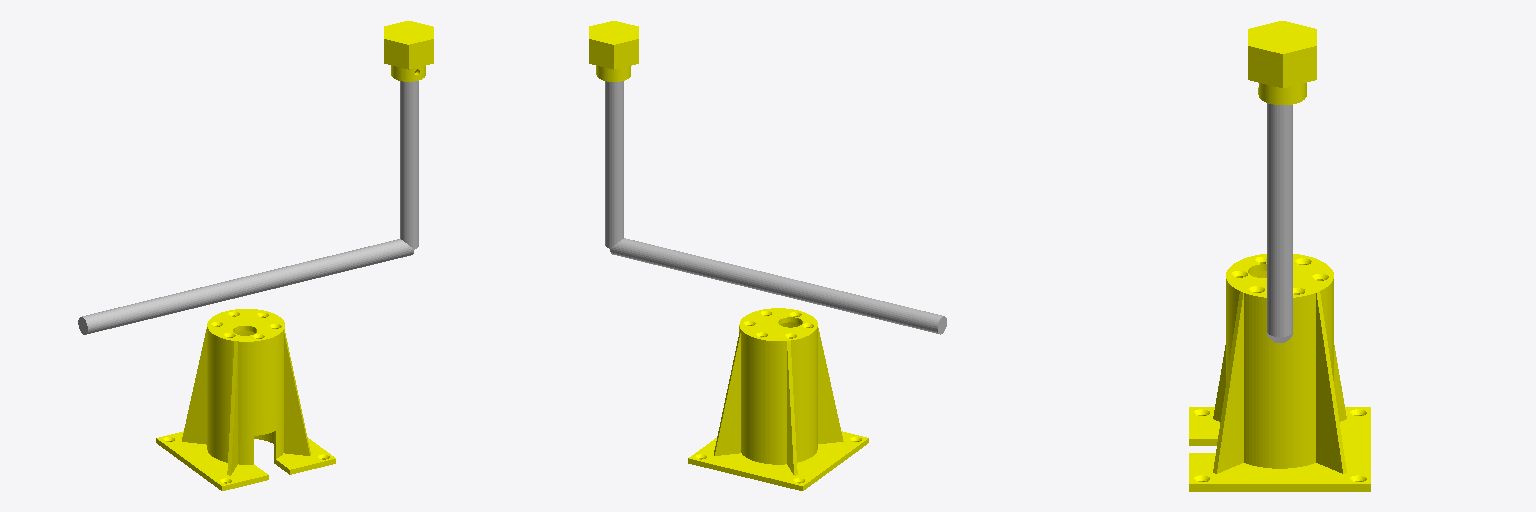
URDF robot description (furuta_pendulum):
<?xml version="1.0"?>
<!-- URDF used for generating xml model -->
<robot name="furuta_pendulum">
  <material name="grey">
    <color rgba="0.8 0.8 0.8 1.0" />
  </material>
  <material name="yellow">
    <color rgba="1.0 1.0 0.0 1.0" />
  </material>

  <link name="base_link">
    <visual>
      <origin rpy="1.57079632679 0.0 0.0" xyz="0.0 0.0 0.0" />
      <geometry>
        <mesh filename="37d_motor_mount.stl" scale="0.001 0.001 0.001"/>
      </geometry>
      <material name="yellow" />
    </visual>
    <collision>
      <origin rpy="0.0 0.0 0.0" xyz="0.0 0.0 0.0895" />
      <geometry>
        <cylinder length="0.179" radius="0.025" />
      </geometry>
    </collision>
    <inertial>
      <mass value="0.0" />
      <origin rpy="0.0 0.0 0.0" xyz="0.0 0.0 0.0" />
      <inertia ixx="0.0" ixy="0.0" ixz="0.0" iyy="0.0" iyz="0.0" izz="0.0" />
    </inertial>
  </link>

  <joint name="joint0" type="revolute">
    <origin rpy="0.0 0.0 0.0" xyz="0.0 0.0 0.095" />
    <parent link="base_link" />
    <child link="arm1" />
    <axis xyz="0 0 1" />
    <dynamics damping="0.0001" />
    <limit effort="1000" lower="-10" upper="10" velocity="1000"/>
  </joint>

  <link name="arm1">
    <visual>
      <origin rpy="0.0 1.5707963267948966 0.0" xyz="0.0 0.0 0.0" />
      <geometry>
        <cylinder length="0.2" radius="0.005" />
      </geometry>
      <material name="grey" />
    </visual>
    <collision>
      <origin rpy="0.0 1.5707963267948966 0.0" xyz="0.0467625 0.0 0.0" />
      <geometry>
        <cylinder length="0.093525" radius="0.005" />
      </geometry>
    </collision>
    <inertial>
      <mass value="0.0" />
      <origin rpy="0.0 0.0 0.0" xyz="0.0 0.0 0.0" />
      <inertia ixx="0.0" ixy="0.0" ixz="0.0" iyy="0.0" iyz="0.0" izz="0.0" />
    </inertial>
  </link>

  <joint name="joint6" type="fixed">
    <origin rpy="0.0 0.0 0.0" xyz="0.0 0.0 -0.015" />
    <parent link="arm1" />
    <child link="arm_mount" />
  </joint>

  <link name="arm_mount">
    <visual>
      <origin rpy="1.5707963267948966 0.0 0.0" xyz="0.0 0.0 0.0" />
      <geometry>
        <mesh filename="37d_arm.stl" scale="0.001 0.001 0.001"/>
      </geometry>
      <material name="yellow" />
    </visual>
    <collision>
      <origin rpy="0.0 1.5707963267948966 0.0" xyz="0.0467625 0.0 0.0" />
      <geometry>
        <cylinder length="0.093525" radius="0.005" />
      </geometry>
    </collision>
    <inertial>
      <mass value="0.0" />
      <origin rpy="0.0 0.0 0.0" xyz="0.0 0.0 0.0" />
      <inertia ixx="0.0" ixy="0.0" ixz="0.0" iyy="0.0" iyz="0.0" izz="0.0" />
    </inertial>
  </link>

  <joint name="joint1" type="revolute">
    <!-- -pi rotation so that for 0 pendulum is downward -->
    <origin rpy="0.0 0.0 0.0" xyz="0.1 0.0 0.0" />
    <parent link="arm1" />
    <child link="arm2" />
    <axis xyz="1 0 0" />
    <dynamics damping="1.7905703040590617e-05" />
    <limit effort="1000" lower="-10" upper="10" velocity="1000"/>
  </joint>

  <link name="arm2">
    <visual>
      <origin rpy="0.0 0.0 0.0" xyz="0.0 0.0 0.05" />
      <geometry>
        <cylinder length="0.1" radius="0.005" />
      </geometry>
      <material name="grey" />
    </visual>
    <collision>
      <origin rpy="0.0 0.0 0.0" xyz="0.0 0.0 0.0645" />
      <geometry>
        <cylinder length="0.129" radius="0.005" />
      </geometry>
    </collision>
    <inertial>
      <mass value="0.0" />
      <origin rpy="0.0 0.0 0.0" xyz="0.0 0.0 0.0" />
      <inertia ixx="0.0" ixy="0.0" ixz="0.0" iyy="0.0" iyz="0.0" izz="0.0" />
    </inertial>
  </link>

  <joint name="joint2" type="fixed">
    <origin rpy="0.0 0.0 0.0" xyz="0.0 0.0 0.1" />
    <parent link="arm2" />
    <child link="mass" />
  </joint>

    <link name="mass">
        <visual>
        <origin rpy="1.57079632679 0.0 0.0" xyz="0.0 -0.04 0.0" />
        <geometry>
            <mesh filename="m14_weight.stl" scale="0.001 0.001 0.001"/>
        </geometry>
        <material name="yellow" />
        </visual>
        <inertial>
            <mass value="0.1" />
            <origin rpy="0.0 0.0 0.0" xyz="0.0 0.0 0.0" />
            <inertia ixx="0." ixy="0.0" ixz="0.0" iyy="0.0" iyz="0.0" izz="0.0" />
        </inertial>
    </link>
</robot>

--- What the picture shows (computed from the rendered views, not written in the file) ---
Views: 3 orthographic renders of the robot side by side, from view 1: azimuth 30°, elevation 25°; view 2: azimuth 150°, elevation 25°; view 3: azimuth 270°, elevation 25°.
Model furuta_pendulum with 5 links and 4 joints (2 revolute, 2 fixed), rooted at base_link, posed all joints at 0.
Visible links, largest first — view 1: base_link, arm1, arm2, mass; view 2: base_link, arm1, arm2, mass; view 3: base_link, arm2, mass.
Link boxes in pixels (x1,y1,x2,y2): base_link: [156, 309, 335, 490]; arm1: [78, 239, 413, 334]; arm2: [400, 81, 418, 249]; mass: [384, 21, 433, 81]; base_link: [688, 308, 868, 490]; arm1: [610, 238, 946, 334]; arm2: [605, 81, 623, 248]; mass: [589, 21, 638, 81]; base_link: [1189, 254, 1370, 491]; arm2: [1267, 103, 1292, 336]; mass: [1248, 21, 1316, 104].
Bounding box of the posed robot: 0.2153 × 0.07 × 0.2225 m (x, y, z).
2 mesh visuals loaded from 3 distinct referenced files (2 binary STL); not drawn: 1 (reference not matched to a file when rendering).